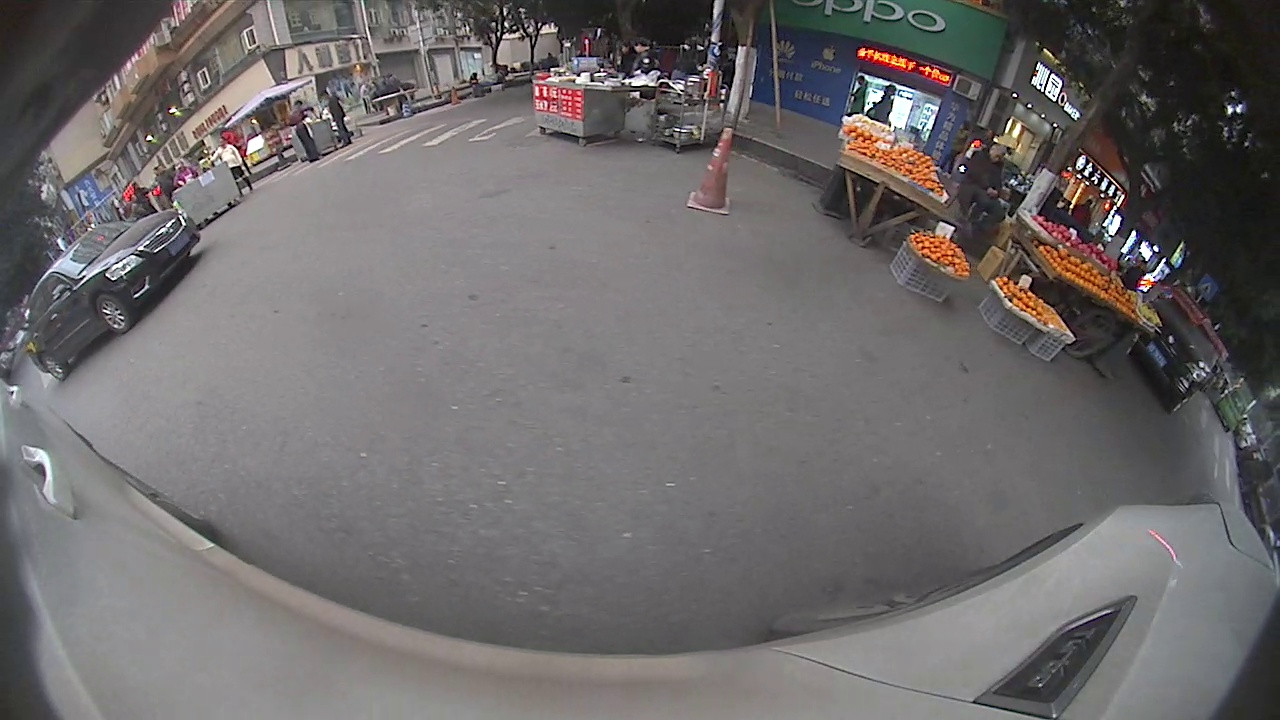car: (20, 210, 202, 380)
front: (92, 293, 131, 334)
person: (972, 136, 1006, 229)
rear: (37, 352, 67, 382)
